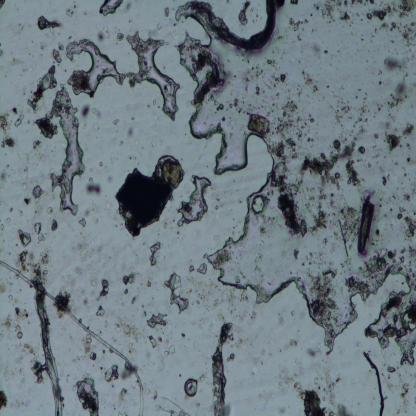Air bubble: (172, 0, 262, 177), (122, 27, 185, 119), (54, 87, 86, 224), (62, 37, 125, 98), (175, 170, 212, 229), (97, 0, 127, 23)
Background material: (242, 106, 314, 166), (266, 165, 326, 235), (366, 288, 416, 363), (340, 247, 404, 305), (305, 137, 371, 189), (186, 36, 230, 108), (351, 0, 415, 49), (334, 198, 382, 259), (297, 365, 351, 416), (304, 264, 344, 328), (193, 278, 252, 321), (211, 315, 235, 415), (359, 346, 389, 416), (11, 229, 52, 280), (24, 61, 60, 111), (372, 121, 414, 162), (333, 93, 369, 137), (2, 298, 34, 346), (73, 370, 103, 416), (256, 0, 278, 58), (372, 85, 406, 119), (0, 108, 25, 154), (391, 207, 416, 250), (262, 54, 288, 94), (268, 360, 300, 391), (34, 112, 64, 140), (166, 280, 188, 317), (73, 96, 103, 122), (293, 64, 318, 93), (38, 11, 68, 35), (80, 330, 100, 364), (396, 370, 416, 404), (47, 287, 73, 313), (285, 16, 311, 40), (322, 1, 352, 21), (115, 316, 138, 342), (70, 243, 100, 261), (146, 307, 166, 334), (102, 362, 127, 383), (110, 384, 131, 408), (147, 235, 163, 266), (306, 39, 331, 58), (162, 402, 190, 416), (215, 248, 239, 264), (35, 221, 59, 236), (32, 361, 46, 386), (398, 187, 416, 205), (249, 197, 267, 215), (239, 0, 251, 26), (100, 275, 113, 299), (86, 183, 102, 202), (122, 271, 139, 288), (29, 135, 45, 153), (383, 359, 398, 377), (230, 98, 245, 114), (146, 334, 163, 348), (209, 193, 223, 210), (302, 345, 317, 360), (194, 263, 209, 278), (94, 302, 110, 316), (180, 260, 194, 275), (63, 4, 78, 18), (378, 173, 392, 187), (52, 50, 65, 65), (24, 340, 37, 354), (32, 186, 46, 198), (216, 100, 225, 118), (0, 0, 10, 16), (287, 338, 300, 350), (3, 210, 14, 223), (0, 162, 8, 179), (165, 340, 175, 353), (129, 127, 138, 141), (128, 291, 139, 302), (0, 394, 8, 408), (293, 246, 302, 258), (289, 0, 302, 8), (401, 167, 410, 178), (81, 295, 88, 306), (98, 159, 103, 169), (26, 198, 30, 208)
Cellulose filter fibre: (0, 258, 148, 412), (32, 285, 64, 414)
Diatom: (182, 377, 198, 397)
Fragment: (113, 169, 178, 239)
